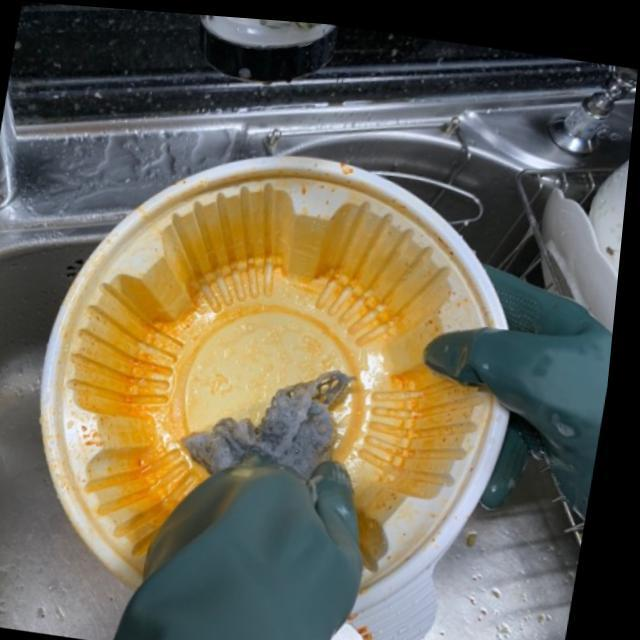container: (40, 140, 529, 622)
